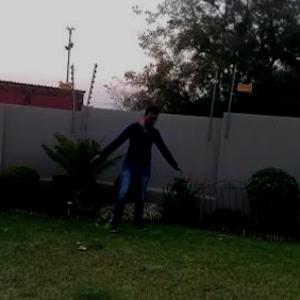land: (85, 101, 193, 242)
